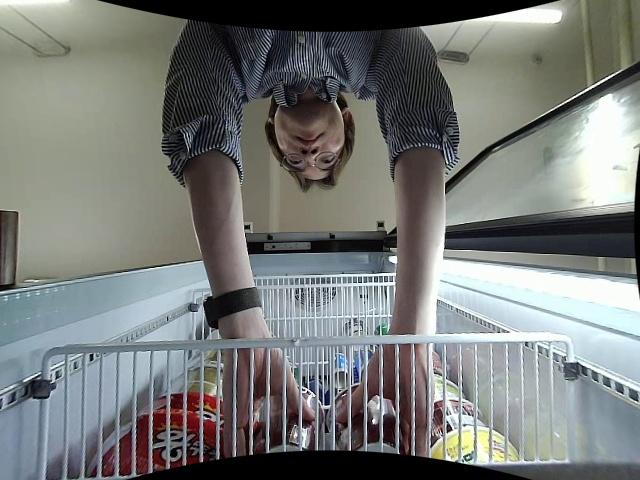00_hand: (335, 349, 432, 459), (219, 351, 313, 461)
06_nuguri_S: (328, 379, 400, 452), (253, 385, 325, 457)
